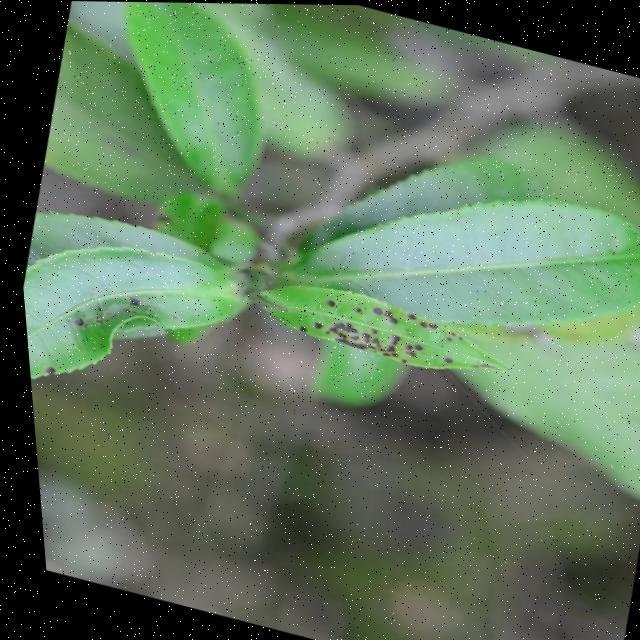Tea red scab: (278, 303, 504, 393), (293, 267, 482, 351)
